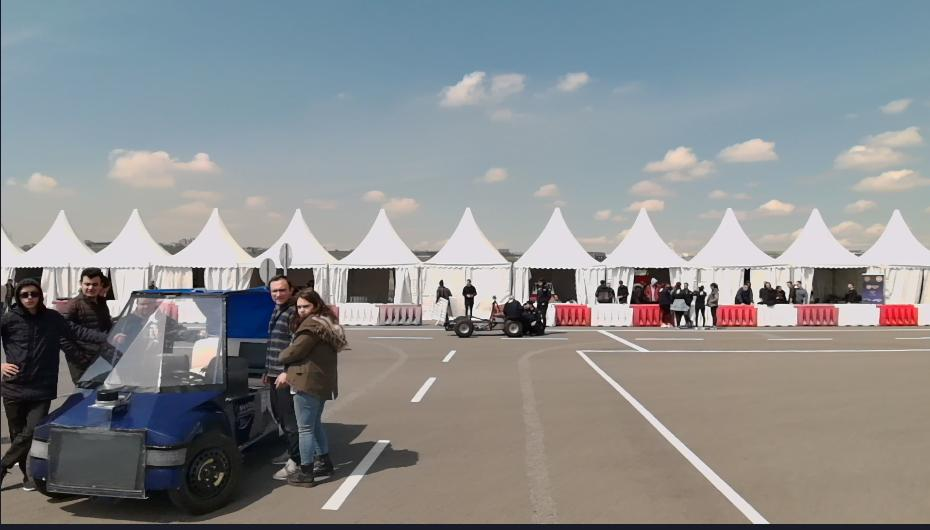nesne: (0, 316, 768, 528), (2, 324, 465, 527), (309, 325, 769, 524), (27, 285, 278, 514), (572, 327, 769, 524), (0, 277, 90, 488), (277, 290, 345, 489), (262, 276, 301, 484), (66, 264, 114, 387), (714, 302, 928, 327), (319, 439, 389, 509), (442, 292, 543, 337), (338, 302, 423, 325), (650, 346, 929, 353), (376, 303, 424, 326), (670, 276, 691, 327), (587, 304, 632, 327), (715, 305, 761, 326), (795, 305, 841, 325), (531, 274, 549, 324), (757, 304, 796, 326), (409, 373, 438, 402), (338, 304, 376, 326), (433, 280, 451, 325), (880, 304, 915, 326), (555, 303, 590, 325), (838, 306, 877, 324), (705, 281, 720, 326), (459, 277, 476, 314), (692, 281, 705, 328), (633, 305, 662, 326), (770, 334, 834, 343), (732, 280, 755, 304), (786, 276, 808, 301), (592, 279, 613, 304), (369, 332, 435, 339), (757, 278, 776, 300), (844, 278, 861, 302), (634, 336, 702, 342), (646, 276, 660, 304), (630, 280, 645, 305), (680, 280, 691, 312), (615, 280, 629, 304), (497, 334, 568, 338), (914, 306, 928, 326), (440, 347, 457, 363), (773, 282, 785, 304), (545, 304, 554, 325)
